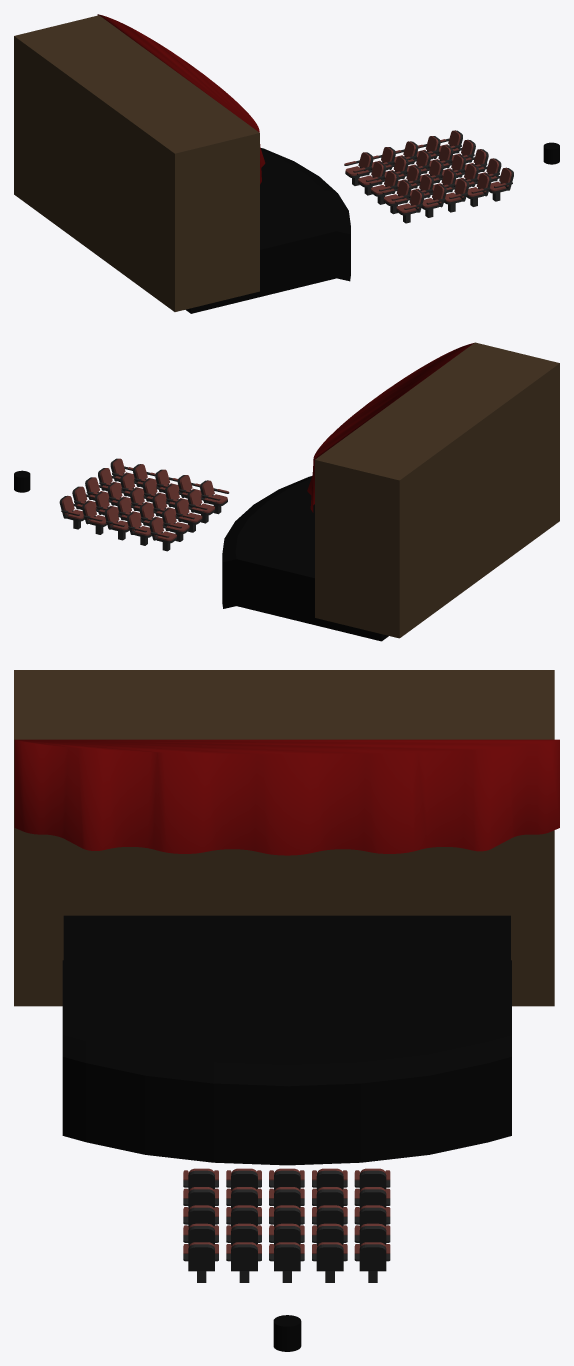
Rendered from Stage.fbx.
The picture shows the model from 3 angles, top to bottom: view 1: azimuth 30°, elevation 25°; view 2: azimuth 150°, elevation 25°; view 3: azimuth 270°, elevation 25°; orthographic projection. The views are drawn at different scales.
Visible parts, largest first — view 1: Back, Stage, Metal Chair, Curtain; view 2: Back, Stage, Metal Chair, Curtain; view 3: Stage, Back, Curtain, Metal Chair, SpotLight.
Part boxes in pixels (x1,y1,x2,y2): Back: (14, 15, 259, 311); Stage: (185, 148, 350, 313); Metal Chair: (344, 130, 513, 223); Curtain: (97, 14, 265, 184); Back: (315, 342, 559, 638); Stage: (222, 476, 388, 641); Metal Chair: (59, 458, 229, 551); Curtain: (307, 343, 473, 512); Stage: (62, 915, 511, 1165); Back: (14, 670, 554, 1006); Curtain: (14, 739, 559, 855); Metal Chair: (183, 1168, 390, 1282); SpotLight: (273, 1315, 301, 1351).
Size of the model in its own units: 2067 by 783 by 1250.
